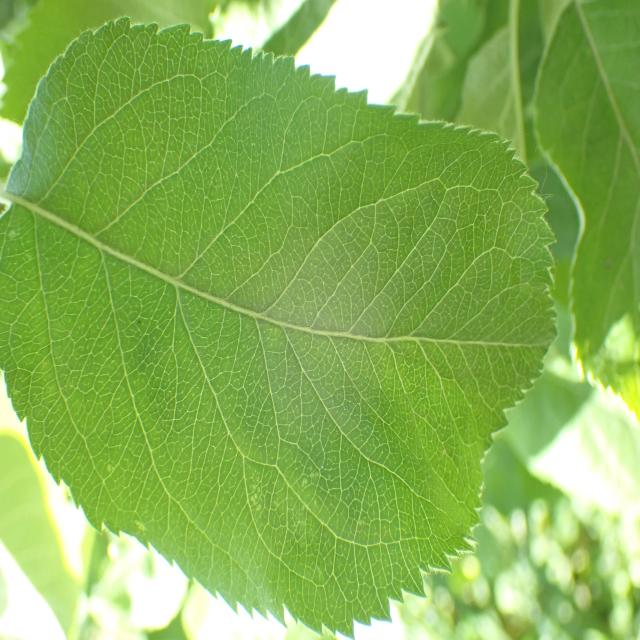healthy: (3, 21, 558, 638), (532, 0, 639, 421)
